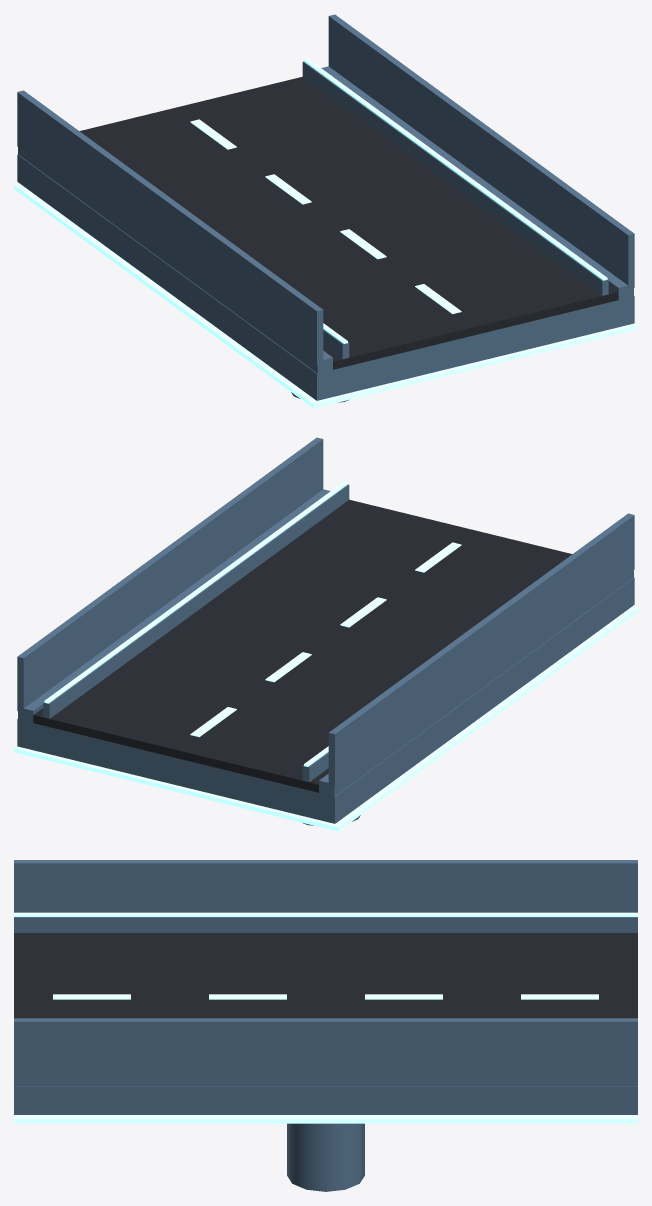
Rendered from road_future_bridge.glb.
3 renders of one model, top to bottom at view 1: azimuth 30°, elevation 25°; view 2: azimuth 150°, elevation 25°; view 3: azimuth 270°, elevation 25°, orthographic. The views are drawn at different scales.
Visible parts, largest first — view 1: body; view 2: body; view 3: body.
Part boxes in pixels (x1=…): body: x1=14, y1=14, x2=637, y2=408; body: x1=14, y1=437, x2=637, y2=831; body: x1=14, y1=860, x2=637, y2=1191.
Size of what is drawn, in the model's own units: 5 by 3.32 by 8.
